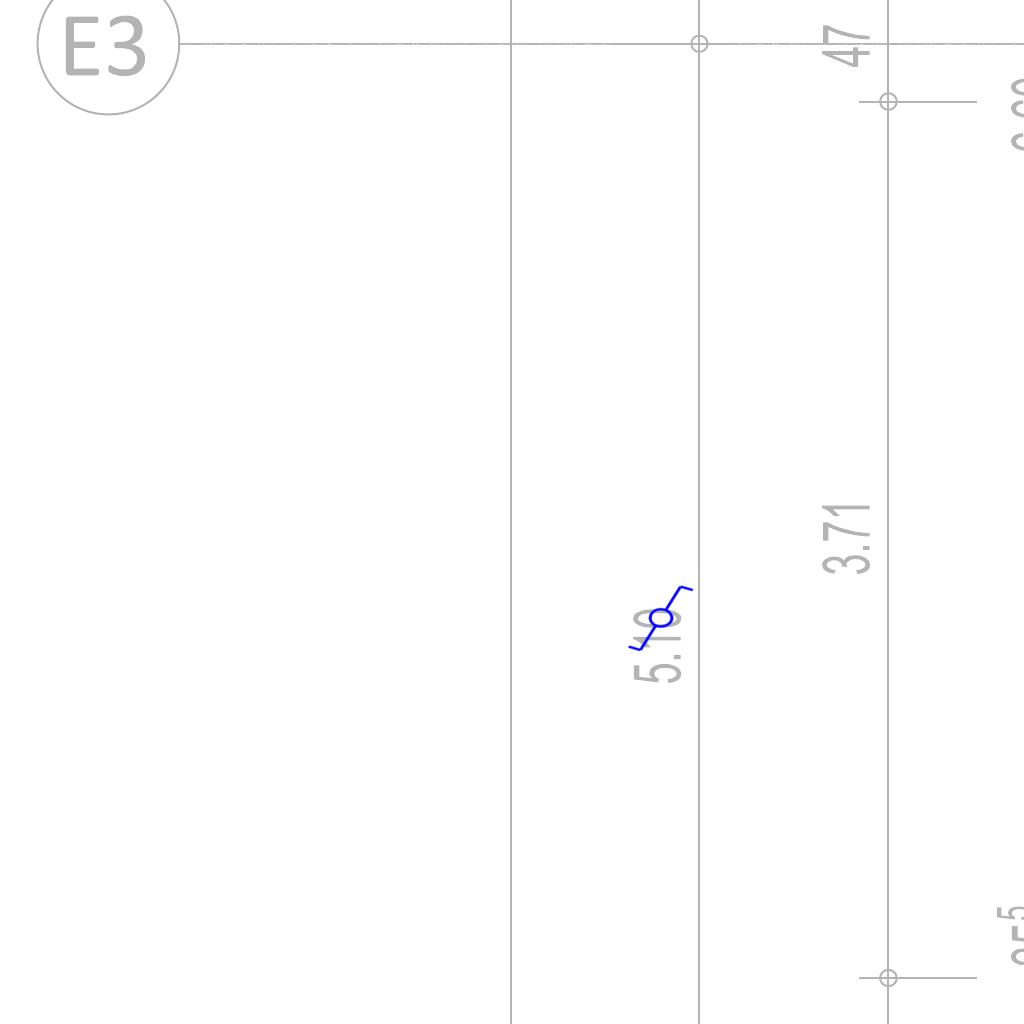Wechselschalter: (626, 583, 704, 655)
